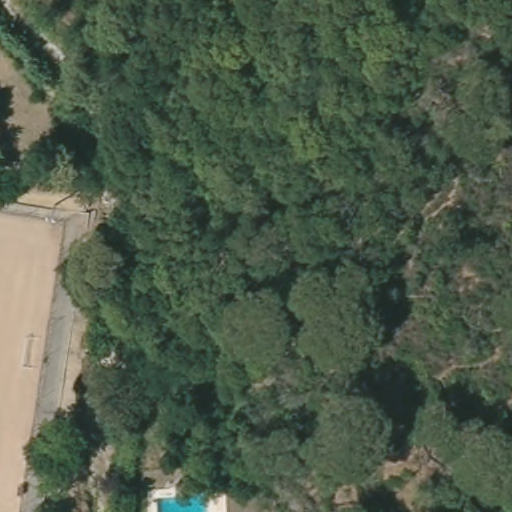pool: (148, 479, 226, 512)
